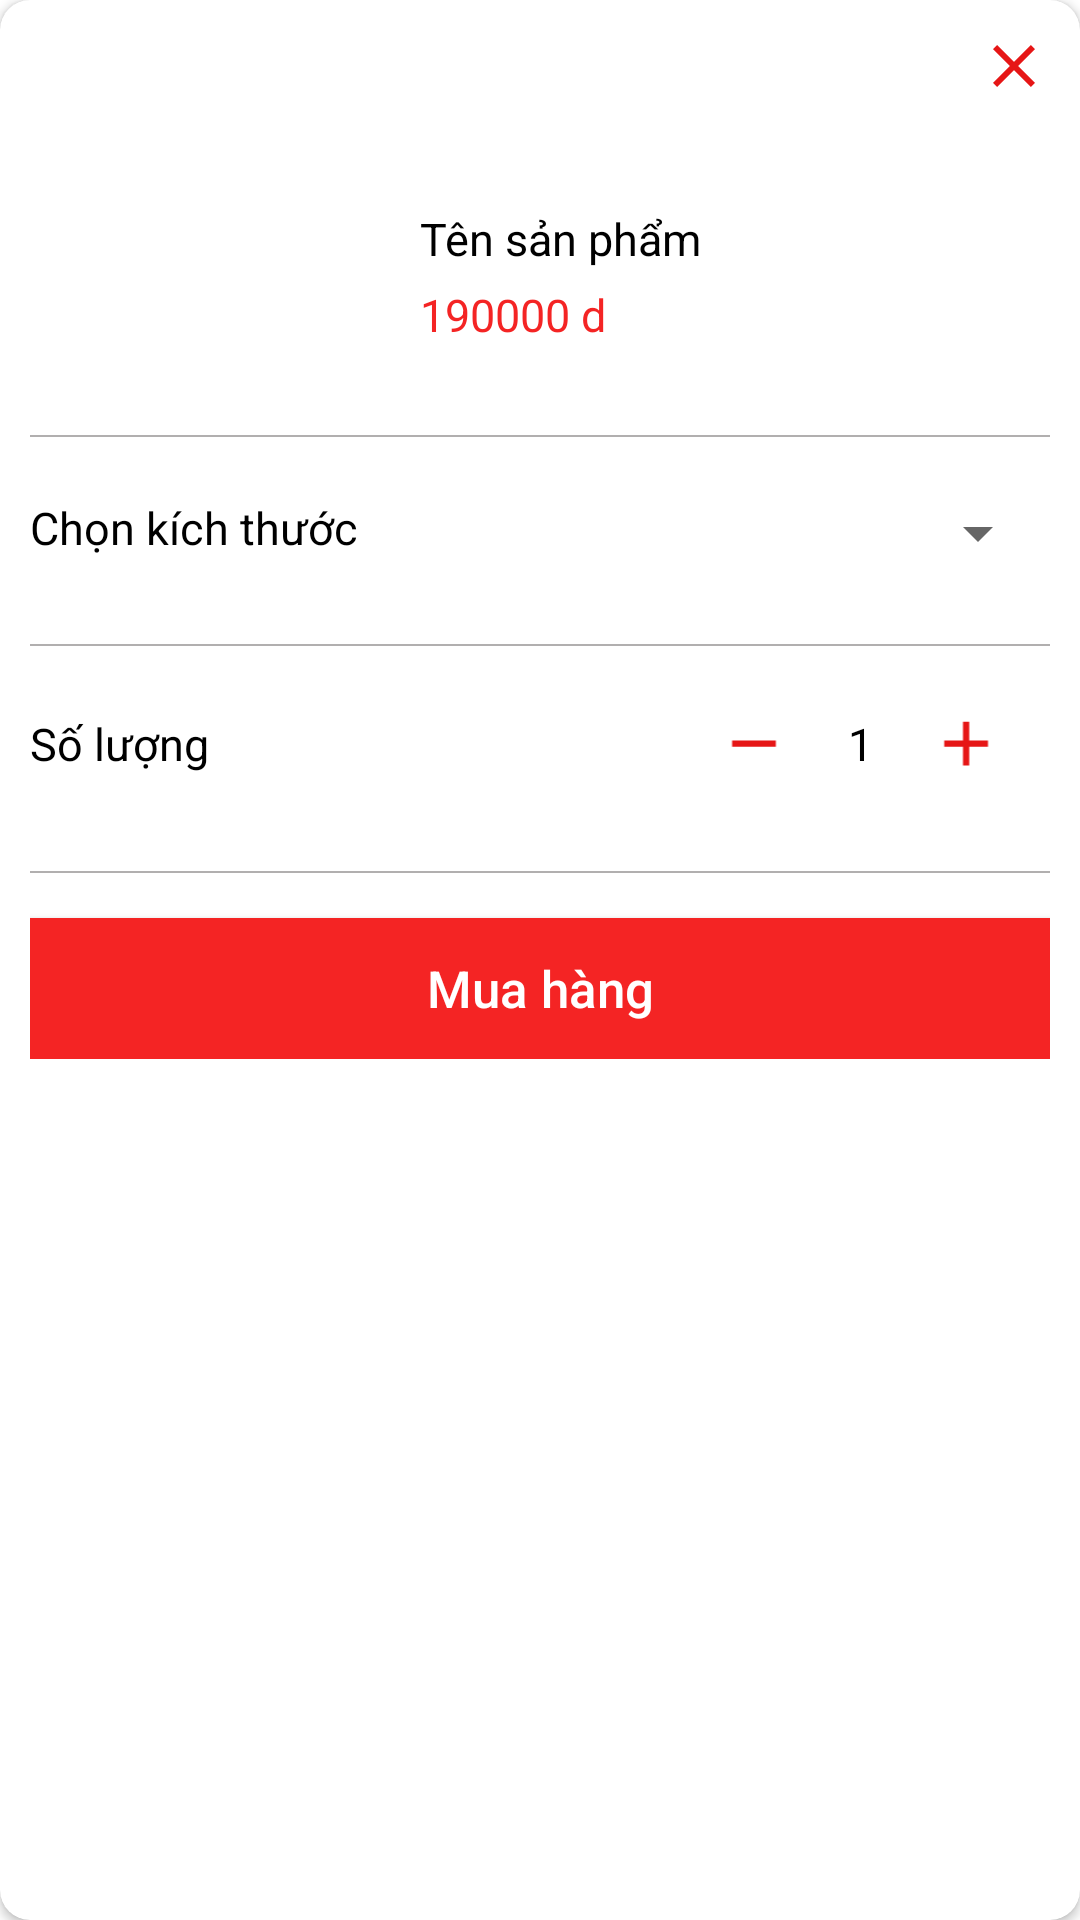

Locate icon controls on the screen. Image size 1080*1920, boxes as (x1, y1, x2, y2).
add: (943, 721, 989, 766)
close: (993, 45, 1035, 87)
